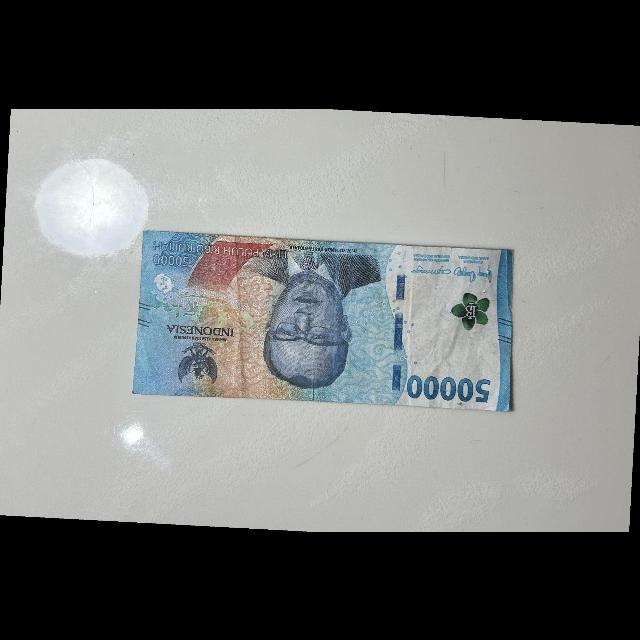Palsu-50k: (130, 225, 522, 416)
Tinta-Palsu-50k: (449, 289, 491, 333)
